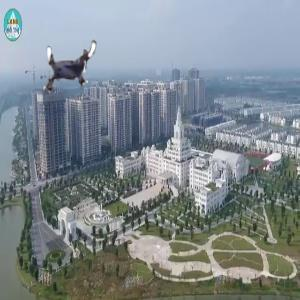drone: (39, 36, 103, 100)
